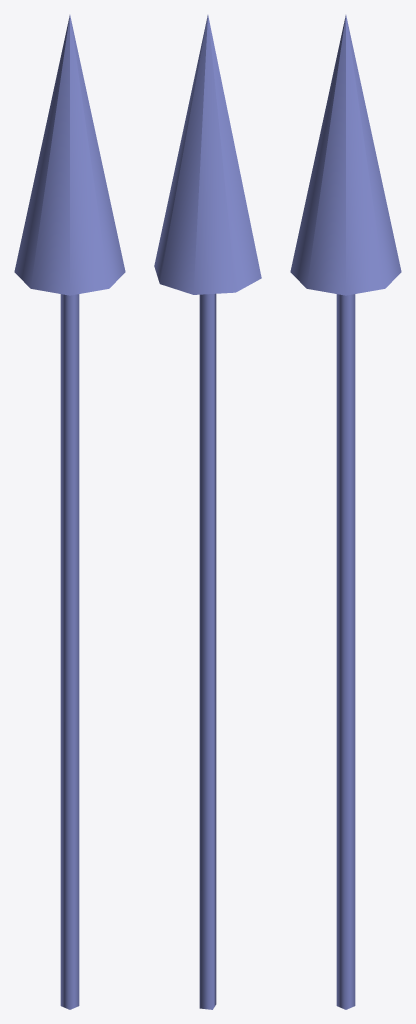
File: move_arrow_y.FBX
3 renders of one model, left to right at view 1: azimuth 90°, elevation 25°; view 2: azimuth 210°, elevation 25°; view 3: azimuth 270°, elevation 25°, orthographic.
Parts seen in each view (by area): view 1: Cylinder001; view 2: Cylinder001; view 3: Cylinder001.
Boxes of the visible parts, left/top/right/bottom form: Cylinder001: left=14, top=15, right=125, bottom=1009; Cylinder001: left=154, top=15, right=261, bottom=1009; Cylinder001: left=290, top=15, right=401, bottom=1009.
Bounding box in the file's own units: 0.0902 × 0.8877 × 0.0902.
